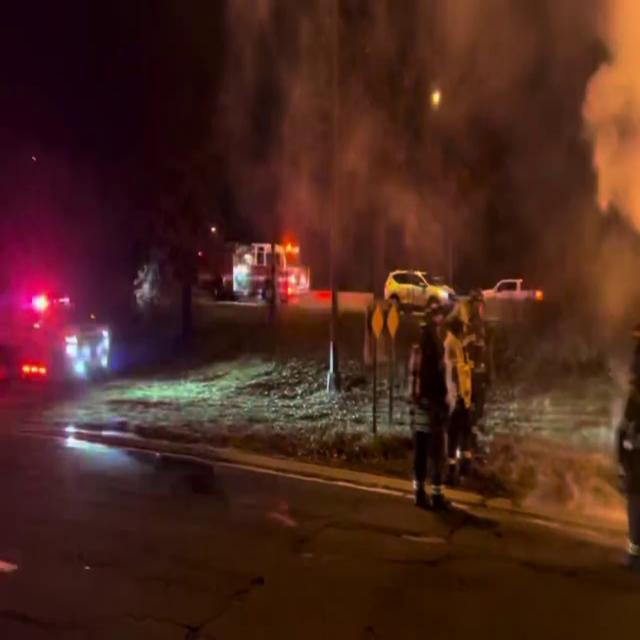Smoke: (216, 0, 640, 244)
